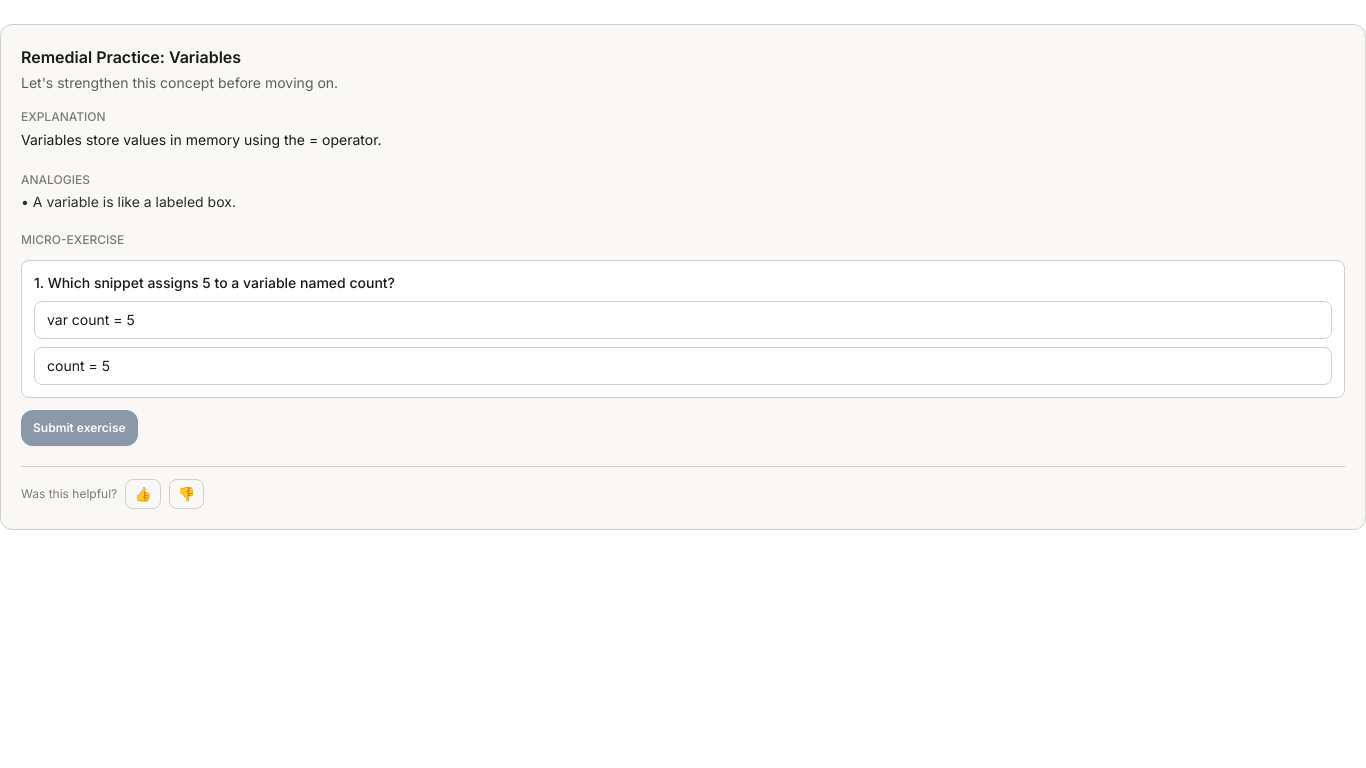
Scenario: RemedialPanel › does not crash when the feedback endpoint is not deployed
Expected: the text "Variables store values in memory using the = operator." is shown, [21,131,382,148]
What coordinates should you click on to do the following:
click the button named "Not helpful"
I would click on:
 (186, 494)
Its box is [169,479,204,509].
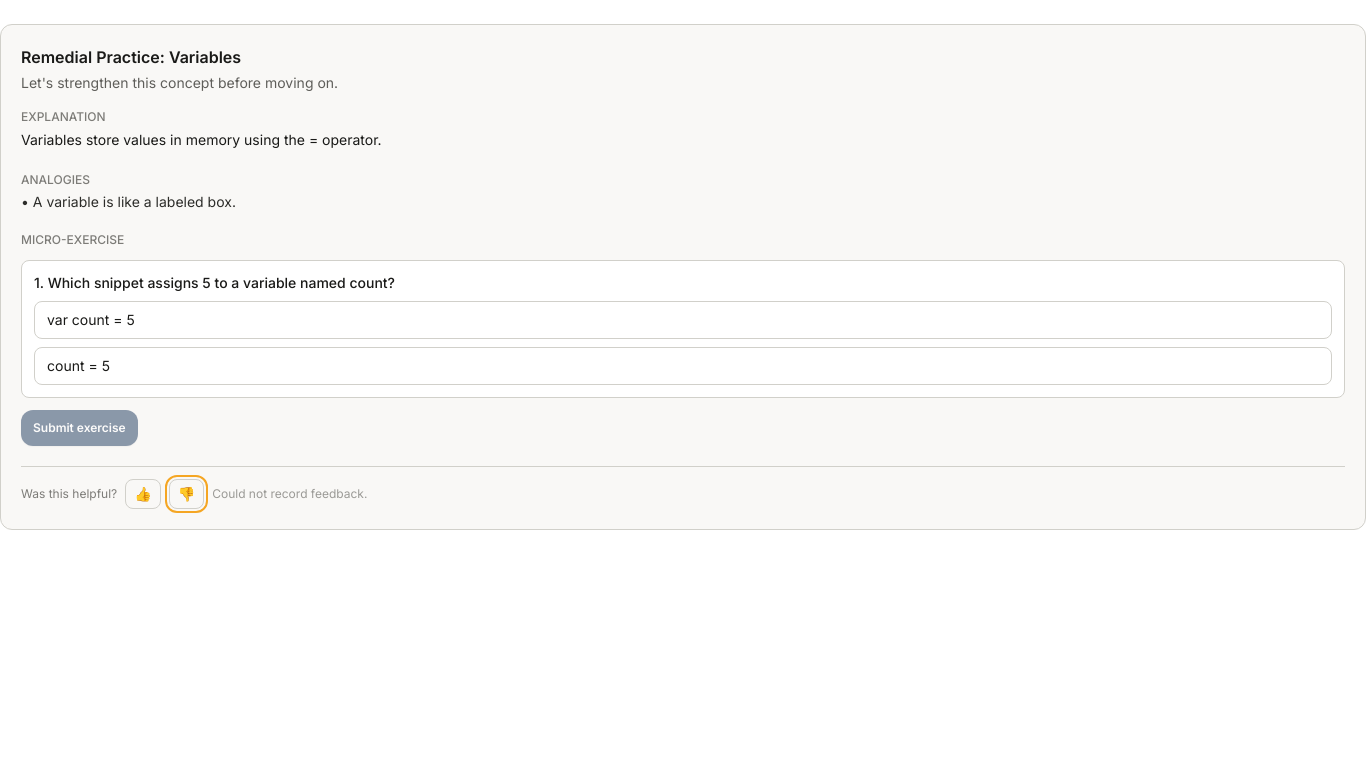
Expected: the button named "Helpful" is shown, [125,479,161,509]
Expected: the text "Could not record feedback." is shown, [212,486,367,502]
